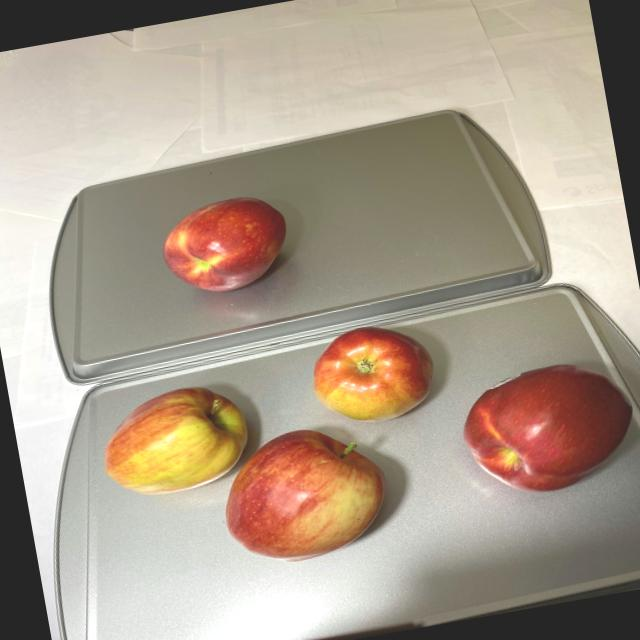apple: (85, 285, 640, 591), (148, 186, 300, 304)
